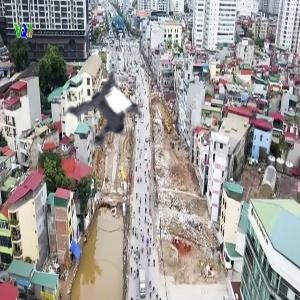drone: (56, 63, 160, 167)
